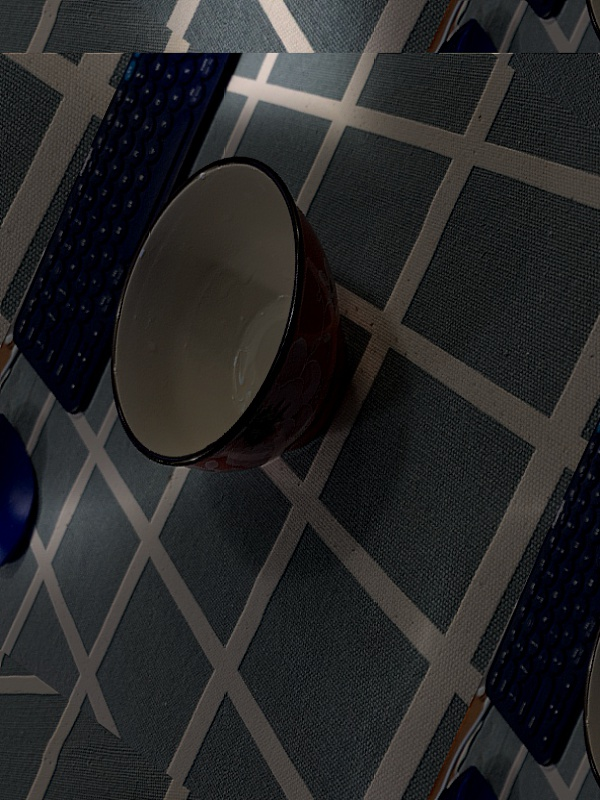bowl_small: (61, 106, 410, 564)
